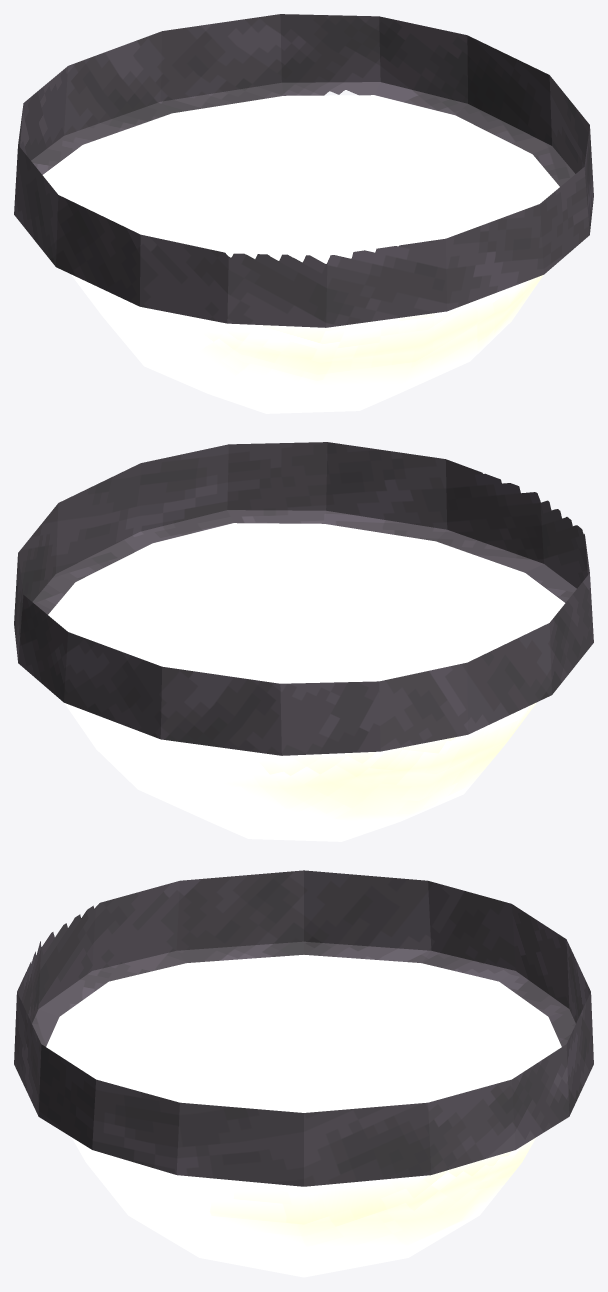
Rendered from LamparaCasa.fbx.
3 views of the same model, one above another, from view 1: azimuth 30°, elevation 25°; view 2: azimuth 150°, elevation 25°; view 3: azimuth 270°, elevation 25° (orthographic).
Visible parts, largest first — view 1: Lampara; view 2: Lampara; view 3: Lampara.
Boxes of the visible parts, bbox=[...] form: Lampara: bbox=[14, 14, 593, 413]; Lampara: bbox=[14, 442, 593, 841]; Lampara: bbox=[14, 870, 593, 1277].
Size of the model in its own units: 281 by 145 by 281.
1 material, 1 textured.
